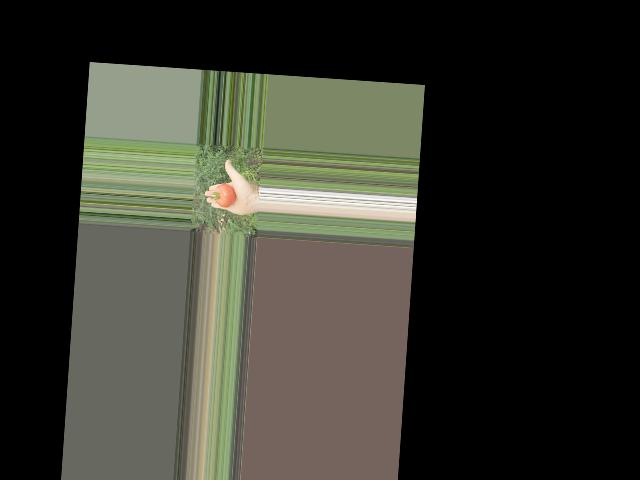tomato: (214, 183, 236, 209)
